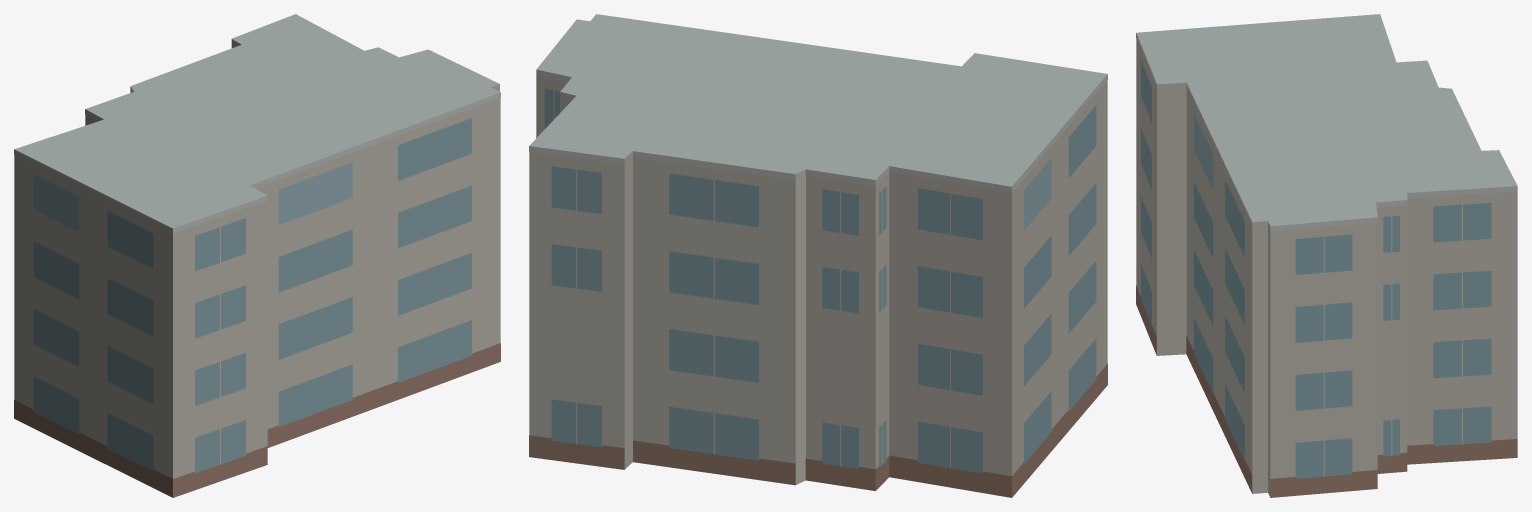
Rendered from survey-upis-33006549.glb.
3 views of the same model, side by side, from view 1: azimuth 30°, elevation 25°; view 2: azimuth 150°, elevation 25°; view 3: azimuth 270°, elevation 25° (orthographic). The views are drawn at different scales.
Parts seen in each view (by area): view 1: survey-upis-33006549.tmp; view 2: survey-upis-33006549.tmp; view 3: survey-upis-33006549.tmp.
Boxes of the visible parts, <box> form: survey-upis-33006549.tmp: <box>14,14,500,497</box>; survey-upis-33006549.tmp: <box>529,14,1107,497</box>; survey-upis-33006549.tmp: <box>1136,14,1517,497</box>.
Size of the model in its own units: 20.96 by 12.5 by 15.92.
